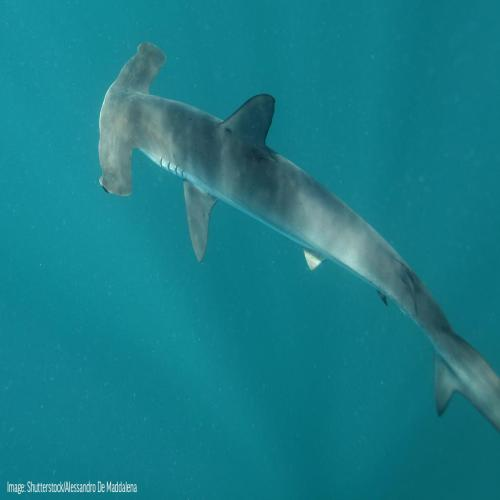shark-endangered: (96, 39, 500, 427)
